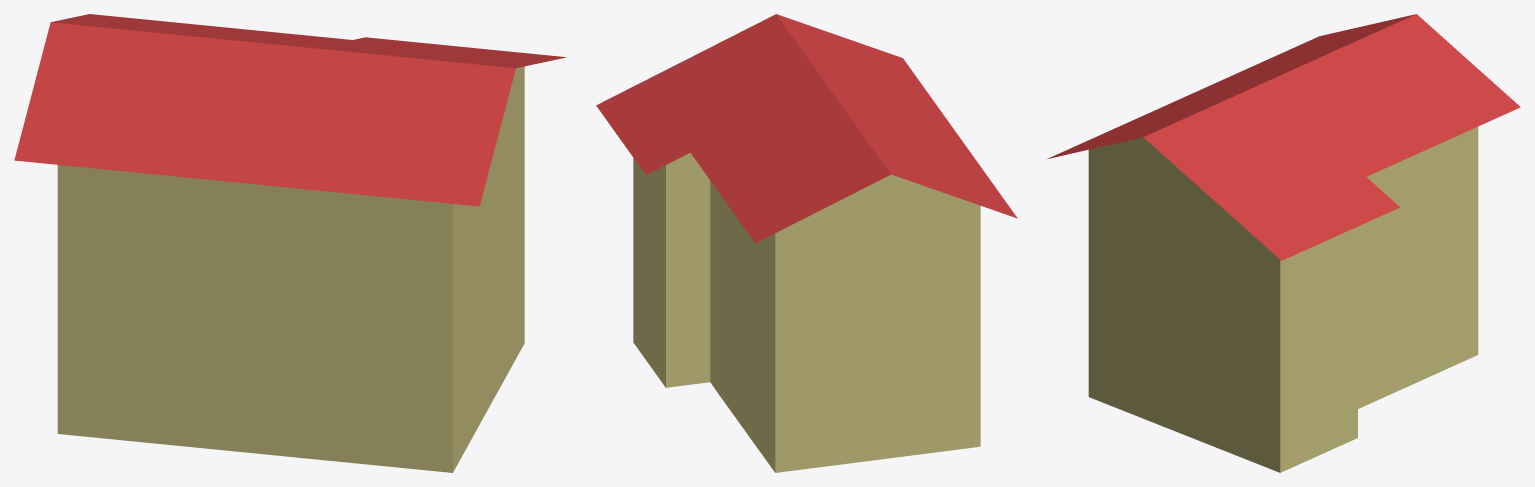
The picture shows the model from 3 angles, left to right: view 1: azimuth 30°, elevation 25°; view 2: azimuth 150°, elevation 25°; view 3: azimuth 270°, elevation 25°; orthographic projection. The views are drawn at different scales.
Visible parts, largest first — view 1: group_5, group_3, group_4; view 2: group_5, group_3, group_4; view 3: group_5, group_3, group_4.
Boxes of the visible parts, box(x1,y1,x2,y2) form: group_5: box(57, 66, 524, 472); group_3: box(14, 14, 566, 206); group_4: box(53, 20, 515, 206); group_5: box(633, 153, 980, 472); group_3: box(596, 14, 1017, 243); group_4: box(638, 14, 929, 226); group_5: box(1088, 127, 1478, 472); group_3: box(1051, 14, 1520, 260); group_4: box(1048, 14, 1464, 247).
Size of the model in its own units: 17.06 by 15.81 by 10.98.
